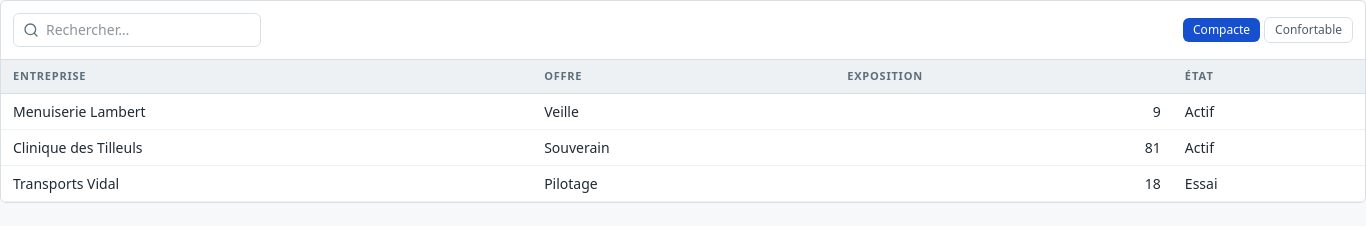
DataTable › dit qu’il n’y a aucun résultat, et non que la liste est vide
Type "introuvable" into the search field named "Rechercher un client". click: (137, 30)
box: top-left (13, 13), bottom-right (261, 47)
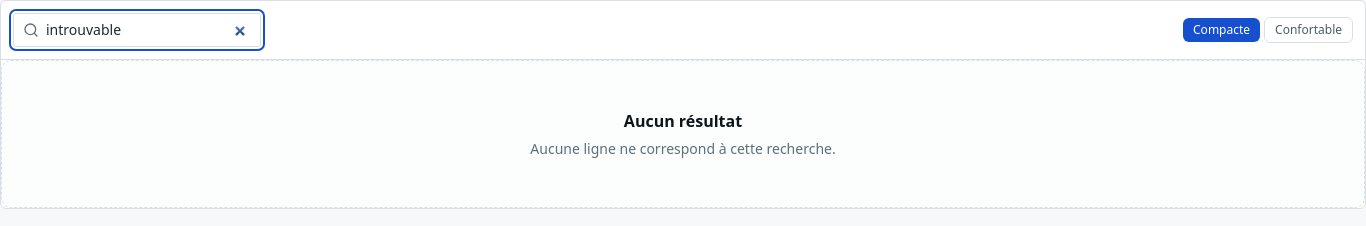
Expected: the text "Aucun résultat" is shown, top-left (624, 109), bottom-right (742, 133)
